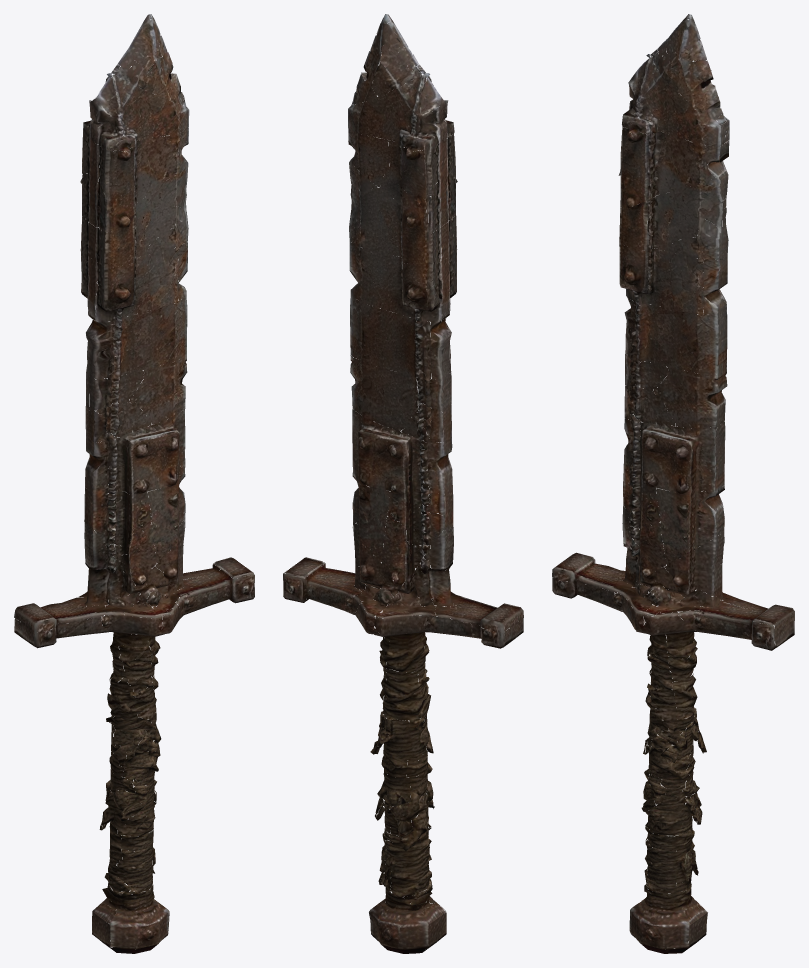
The model's file is w_kain_scrap.glb.
The picture shows the model from 3 angles, left to right: view 1: azimuth 30°, elevation 25°; view 2: azimuth 150°, elevation 25°; view 3: azimuth 330°, elevation 25°; orthographic projection.
Parts seen in each view (by area): view 1: tripo_node_236165c6-7fdb-4dd2-a774-7bc9ab7ba23a; view 2: tripo_node_236165c6-7fdb-4dd2-a774-7bc9ab7ba23a; view 3: tripo_node_236165c6-7fdb-4dd2-a774-7bc9ab7ba23a.
Boxes of the visible parts, left/top/right/bottom form: tripo_node_236165c6-7fdb-4dd2-a774-7bc9ab7ba23a: left=14, top=14, right=254, bottom=953; tripo_node_236165c6-7fdb-4dd2-a774-7bc9ab7ba23a: left=283, top=14, right=523, bottom=953; tripo_node_236165c6-7fdb-4dd2-a774-7bc9ab7ba23a: left=552, top=14, right=794, bottom=953.
Size of the model in its own units: 0.3999 by 1.6 by 0.183.
1 material, 1 textured.
